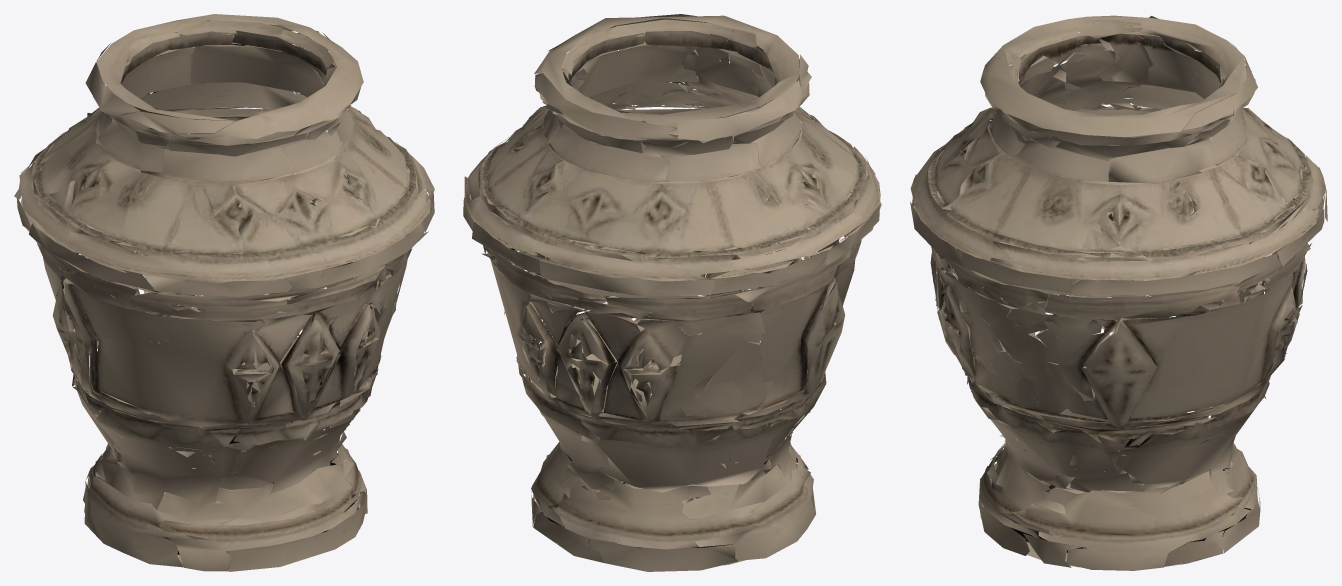
File: dre_urn_broken.glb
3 views of the same model, side by side, from view 1: azimuth 30°, elevation 25°; view 2: azimuth 150°, elevation 25°; view 3: azimuth 270°, elevation 25° (orthographic).
Parts seen in each view (by area): view 1: MetricPlacement; view 2: MetricPlacement; view 3: MetricPlacement.
Part boxes in pixels (x1=…): MetricPlacement: x1=14, y1=14, x2=434, y2=571; MetricPlacement: x1=463, y1=14, x2=881, y2=571; MetricPlacement: x1=910, y1=15, x2=1327, y2=570.
Bounding box in the file's own units: 0.5423 × 0.65 × 0.5504.
1 material, 1 textured.
